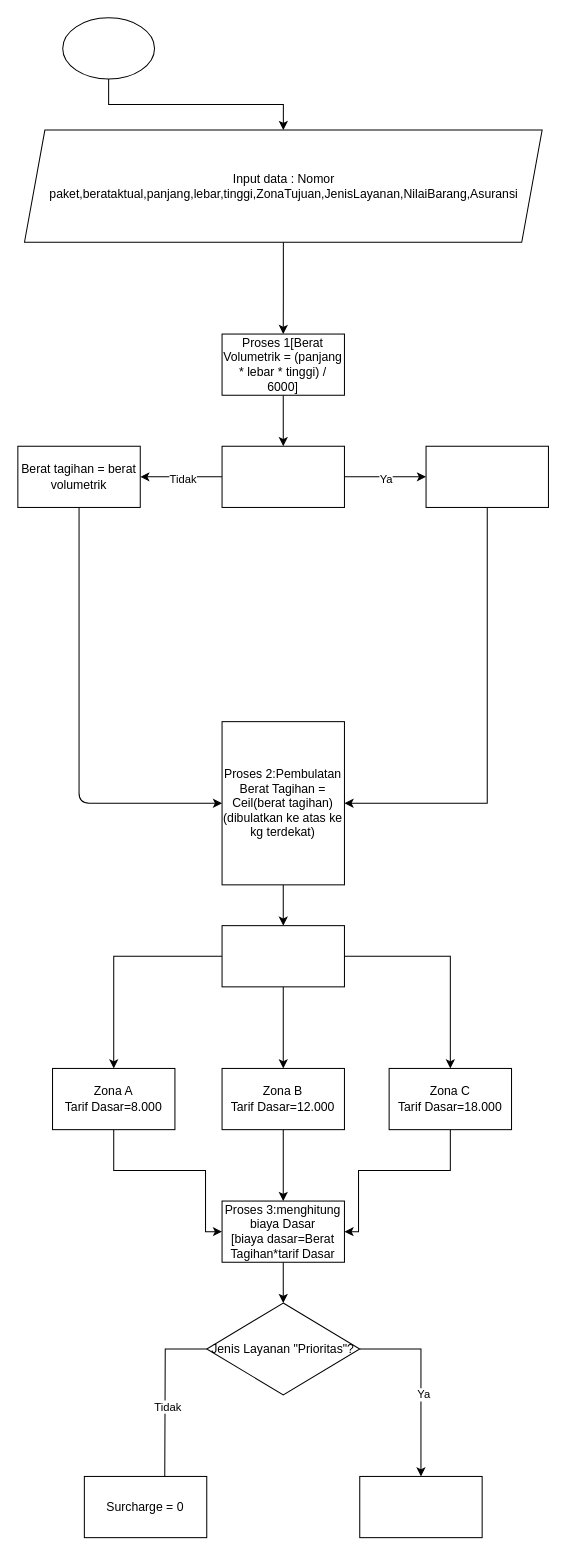
Some shapes in this 567 by 1556 pixel diagram are drawn without their labels. The shapes that lost their labels are listed below. From the top down, each one's centre as x and y in pixels, then its label:
At (x=108, y=48): "Mulai".
At (x=282, y=476): "Apakah Berat aktual> Berat Volumetrik?".
At (x=486, y=476): "berat tagihan=Berat aktual".
At (x=282, y=956): "Zona Tujuan?".
At (x=420, y=1506): "Surcharge=Biaya Dasar*40%".
